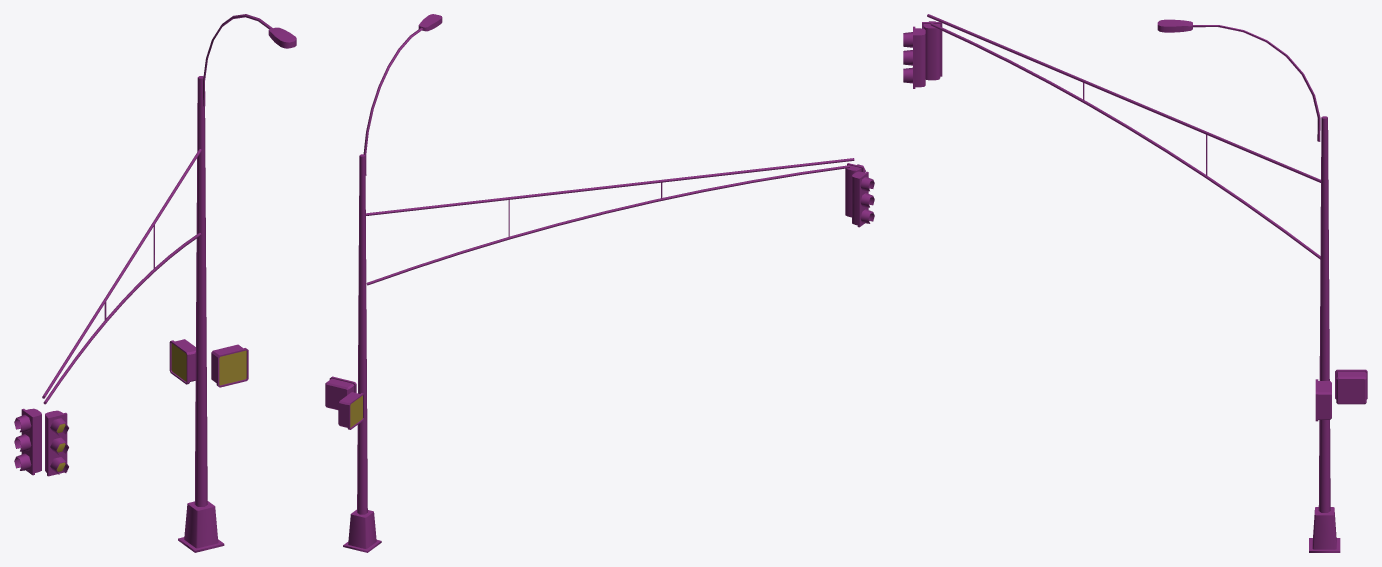
Rendered from mcp_traffic_lights_03_LOD_1.FBX.
3 views of the same model, side by side, from view 1: azimuth 30°, elevation 25°; view 2: azimuth 150°, elevation 25°; view 3: azimuth 270°, elevation 25° (orthographic). The views are drawn at different scales.
Parts seen in each view (by area): view 1: mcp_street_light_pole_03, mcp_traffic_lights_03_lights_a; view 2: mcp_street_light_pole_03; view 3: mcp_street_light_pole_03.
Boxes of the visible parts, <box> form: mcp_street_light_pole_03: <box>14,14,296,552</box>; mcp_traffic_lights_03_lights_a: <box>171,343,246,385</box>; mcp_street_light_pole_03: <box>325,14,874,552</box>; mcp_street_light_pole_03: <box>903,14,1367,552</box>.
Size of the model in its own units: 973 by 1204 by 969.
